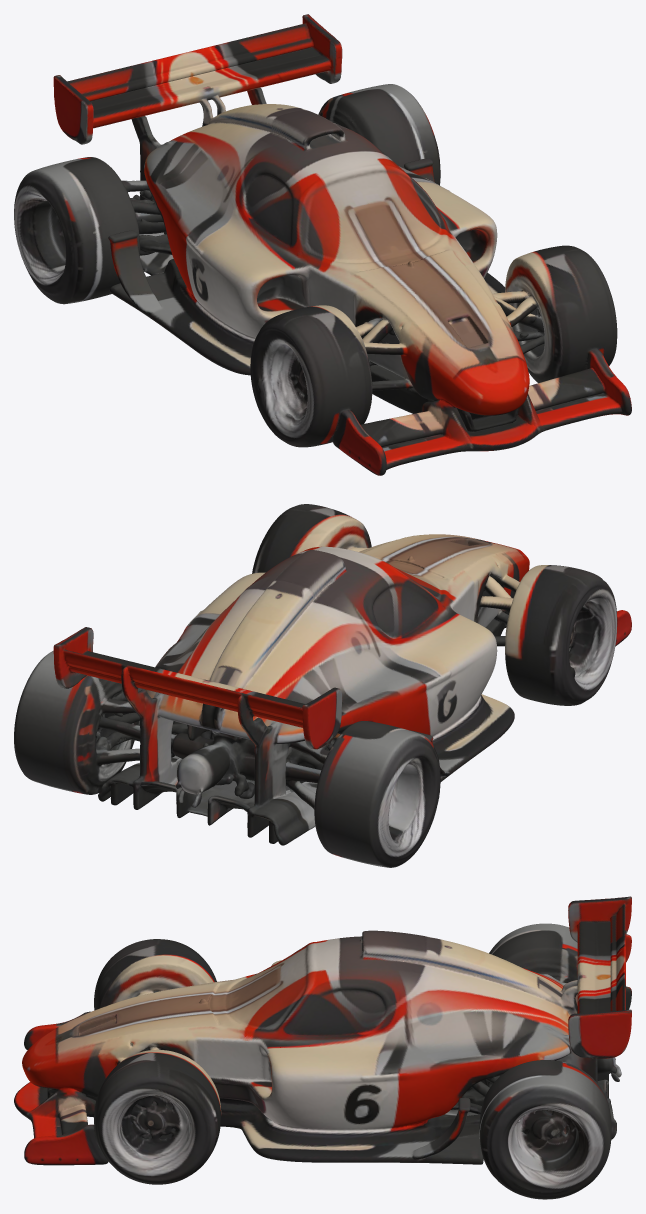
File: tripo_convert_1094b163-9d6d-4c83-bc60-e6a2bd2e0961.fbx
The picture shows the model from 3 angles, top to bottom: view 1: azimuth 30°, elevation 25°; view 2: azimuth 150°, elevation 25°; view 3: azimuth 270°, elevation 25°; orthographic projection. The views are drawn at different scales.
Parts seen in each view (by area): view 1: tripo_node_1094b163; view 2: tripo_node_1094b163; view 3: tripo_node_1094b163.
Boxes of the visible parts, left/top/right/bottom form: tripo_node_1094b163: left=14, top=14, right=631, bottom=475; tripo_node_1094b163: left=14, top=504, right=631, bottom=867; tripo_node_1094b163: left=14, top=896, right=631, bottom=1199.
Size of the model in its own units: 0.6457 by 0.3292 by 1.
Materials: 1 (1 with a texture image).
